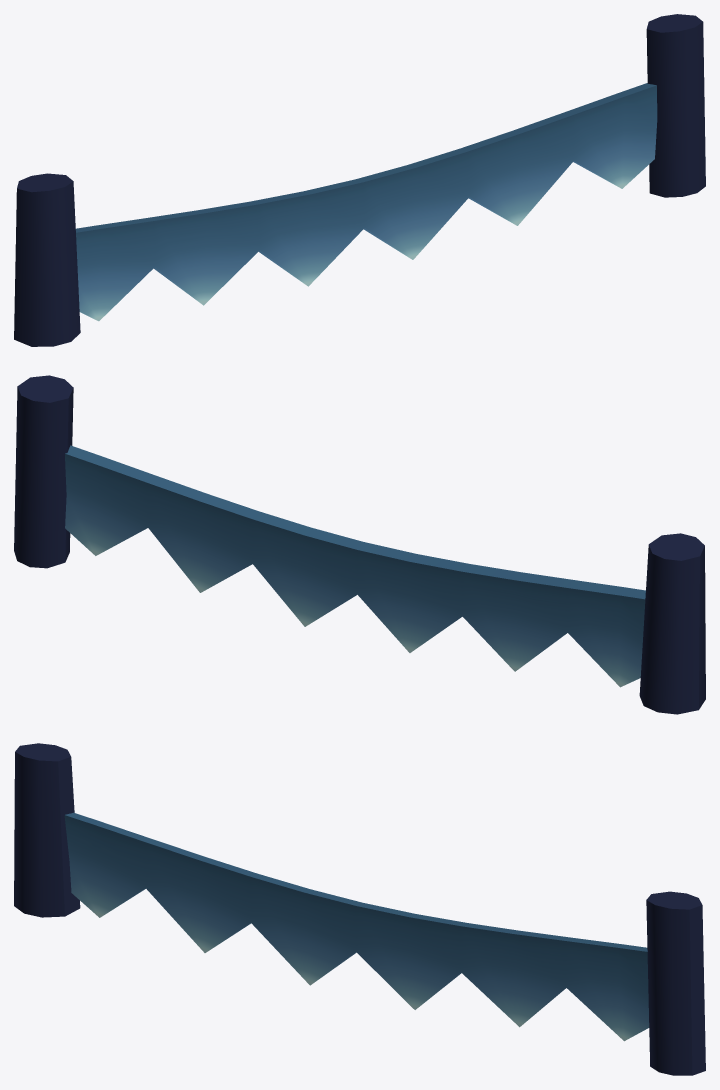
File: block_meta_sawmill_saw.fbx
3 views of the same model, one above another, from view 1: azimuth 30°, elevation 25°; view 2: azimuth 150°, elevation 25°; view 3: azimuth 330°, elevation 25° (orthographic).
Visible parts, largest first — view 1: block_meta_sawmill_saw; view 2: block_meta_sawmill_saw; view 3: block_meta_sawmill_saw.
Part boxes in pixels (x1,y1,x2,y2): block_meta_sawmill_saw: (14,14,705,346); block_meta_sawmill_saw: (14,375,705,714); block_meta_sawmill_saw: (14,743,705,1075).
Size of the model in its own units: 159 by 39.37 by 12.3.
